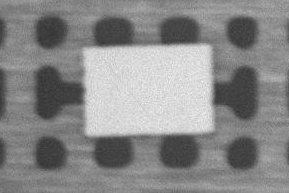DIE_CRACK: (147, 35, 232, 82)
